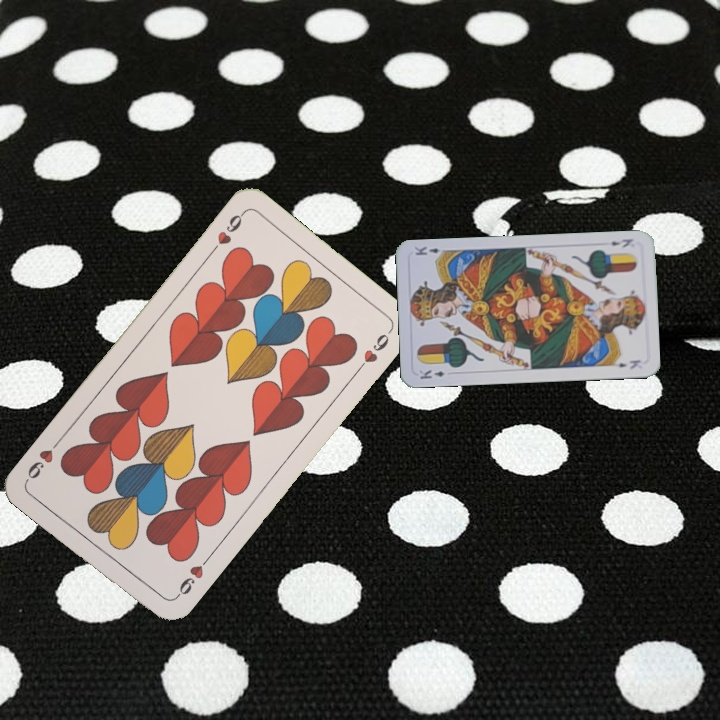EK: (415, 366, 447, 382), (607, 235, 635, 250)
H9: (205, 208, 248, 258), (170, 552, 213, 602)
